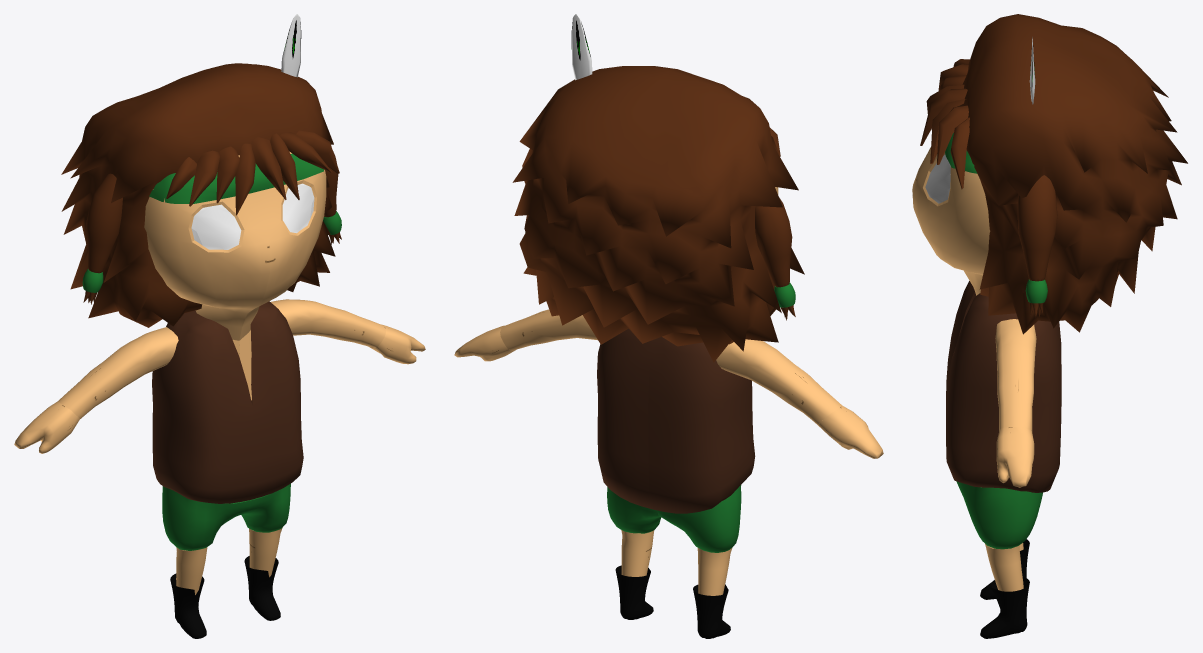
File: Kari final planar.FBX
The picture shows the model from 3 angles, left to right: view 1: azimuth 30°, elevation 25°; view 2: azimuth 150°, elevation 25°; view 3: azimuth 270°, elevation 25°; orthographic projection. The views are drawn at different scales.
Visible parts, largest first — view 1: Box018; view 2: Box018; view 3: Box018.
Part boxes in pixels (box(x1,y1,x2,y2)): Box018: box(14, 14, 425, 638); Box018: box(454, 14, 883, 638); Box018: box(912, 14, 1187, 638).
Bounding box in the file's own units: 72.05 × 39.37 × 98.18.
